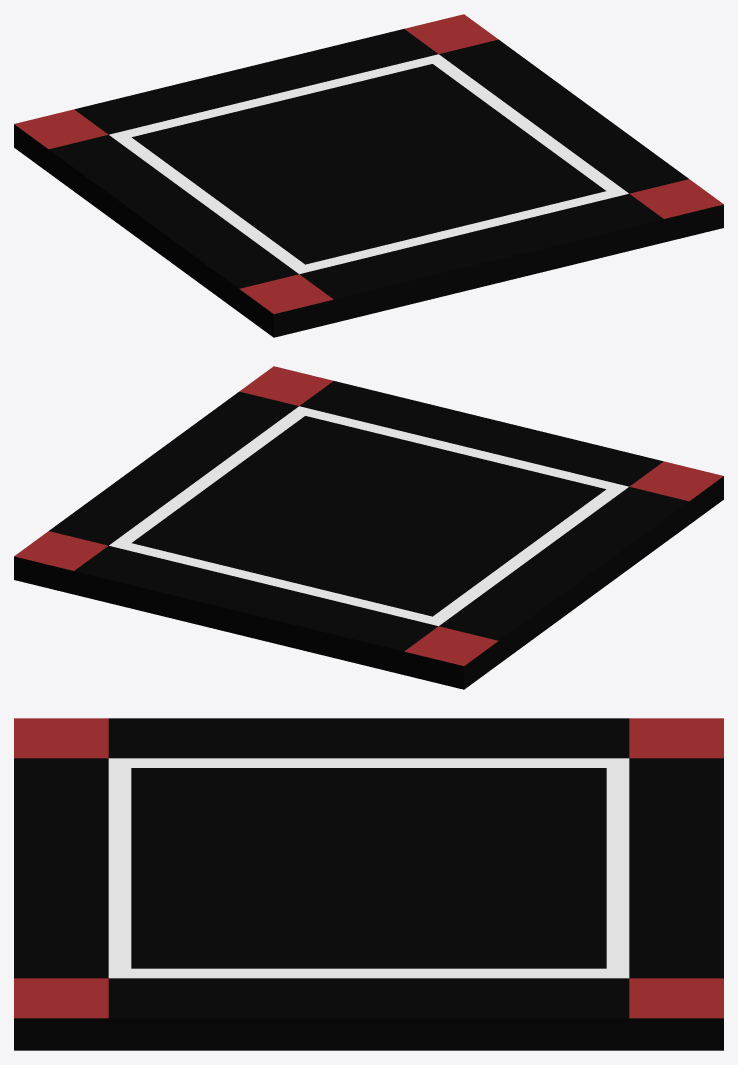
File: 4-way_road_start.fbx
The picture shows the model from 3 angles, top to bottom: view 1: azimuth 30°, elevation 25°; view 2: azimuth 150°, elevation 25°; view 3: azimuth 270°, elevation 25°; orthographic projection. The views are drawn at different scales.
Visible parts, largest first — view 1: Cube.001; view 2: Cube.001; view 3: Cube.001.
Boxes of the visible parts, x1,y1,x2,y2 form: Cube.001: (14,14,723,337); Cube.001: (14,366,723,689); Cube.001: (14,718,723,1050).
Bounding box in the file's own units: 200 × 10 × 200.
